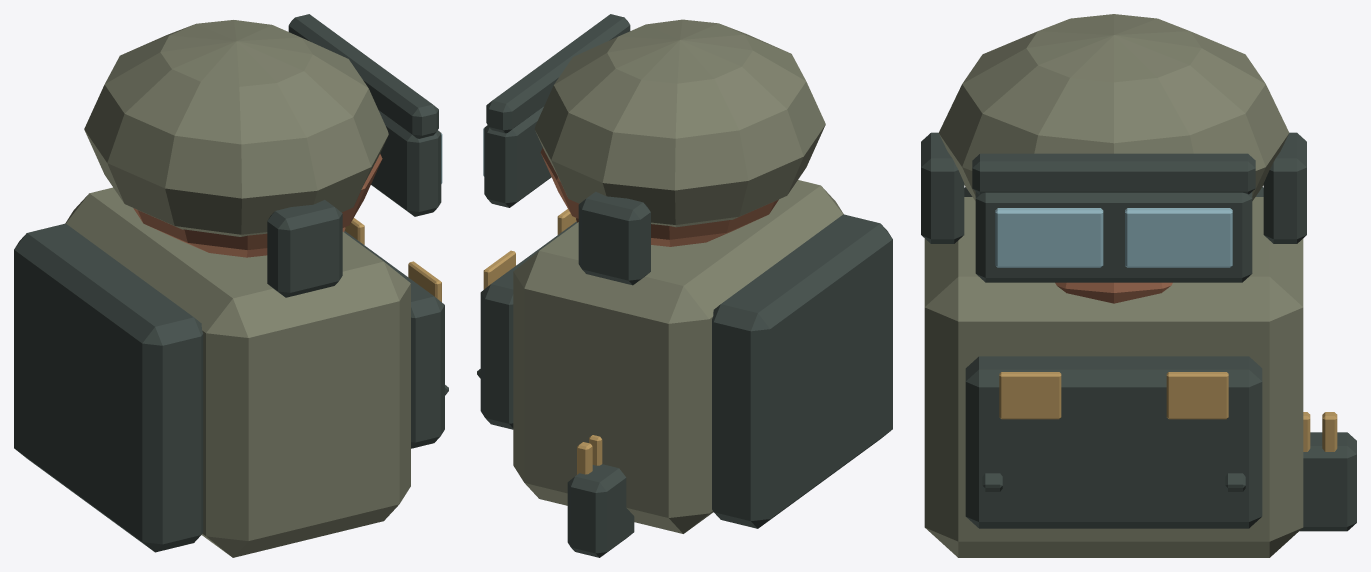
The model's file is ranger-elite.workshop.glb.
The picture shows the model from 3 angles, left to right: view 1: azimuth 30°, elevation 25°; view 2: azimuth 150°, elevation 25°; view 3: azimuth 270°, elevation 25°; orthographic projection. The views are drawn at different scales.
Visible parts, largest first — view 1: ranger-elite_workshop__main__torso_finish_7d806b_0.03, ranger-elite_workshop__main__torso_finish_424d49_0.03, ranger-elite_workshop__main__head_finish_7d806b_0.03, ranger-elite_workshop__main__head_finish_424d49_0.03, ranger-elite_workshop__main__head_finish_9c684e_0.03, ranger-elite_workshop__main__torso_finish_bd9b60_0.03; view 2: ranger-elite_workshop__main__torso_finish_7d806b_0.03, ranger-elite_workshop__main__torso_finish_424d49_0.03, ranger-elite_workshop__main__head_finish_7d806b_0.03, ranger-elite_workshop__main__head_finish_424d49_0.03, ranger-elite_workshop__main__head_finish_9c684e_0.03, ranger-elite_workshop__main__torso_finish_bd9b60_0.03; view 3: ranger-elite_workshop__main__torso_finish_7d806b_0.03, ranger-elite_workshop__main__torso_finish_424d49_0.03, ranger-elite_workshop__main__head_finish_7d806b_0.03, ranger-elite_workshop__main__head_finish_424d49_0.03, ranger-elite_workshop__main__head_finish_91b6c0_0.03, ranger-elite_workshop__main__torso_finish_bd9b60_0.03, ranger-elite_workshop__main__head_finish_9c684e_0.03.
Boxes of the visible parts, x1,y1,x2,y2 form: ranger-elite_workshop__main__torso_finish_7d806b_0.03: (65,187,410,557); ranger-elite_workshop__main__torso_finish_424d49_0.03: (14,223,448,552); ranger-elite_workshop__main__head_finish_7d806b_0.03: (84,20,388,236); ranger-elite_workshop__main__head_finish_424d49_0.03: (267,14,441,297); ranger-elite_workshop__main__head_finish_9c684e_0.03: (133,154,382,257); ranger-elite_workshop__main__torso_finish_bd9b60_0.03: (344,218,441,301); ranger-elite_workshop__main__torso_finish_7d806b_0.03: (513,180,843,533); ranger-elite_workshop__main__torso_finish_424d49_0.03: (477,214,892,557); ranger-elite_workshop__main__head_finish_7d806b_0.03: (534,19,825,227); ranger-elite_workshop__main__head_finish_424d49_0.03: (484,14,650,285); ranger-elite_workshop__main__head_finish_9c684e_0.03: (540,147,778,246); ranger-elite_workshop__main__torso_finish_bd9b60_0.03: (483,209,602,474); ranger-elite_workshop__main__torso_finish_7d806b_0.03: (924,197,1303,557); ranger-elite_workshop__main__torso_finish_424d49_0.03: (964,187,1356,531); ranger-elite_workshop__main__head_finish_7d806b_0.03: (939,14,1289,200); ranger-elite_workshop__main__head_finish_424d49_0.03: (921,132,1306,282); ranger-elite_workshop__main__head_finish_91b6c0_0.03: (995,208,1232,267); ranger-elite_workshop__main__torso_finish_bd9b60_0.03: (999,372,1337,451); ranger-elite_workshop__main__head_finish_9c684e_0.03: (1055,282,1172,303).
Bounding box in the file's own units: 28.92 × 40.5 × 32.3.
